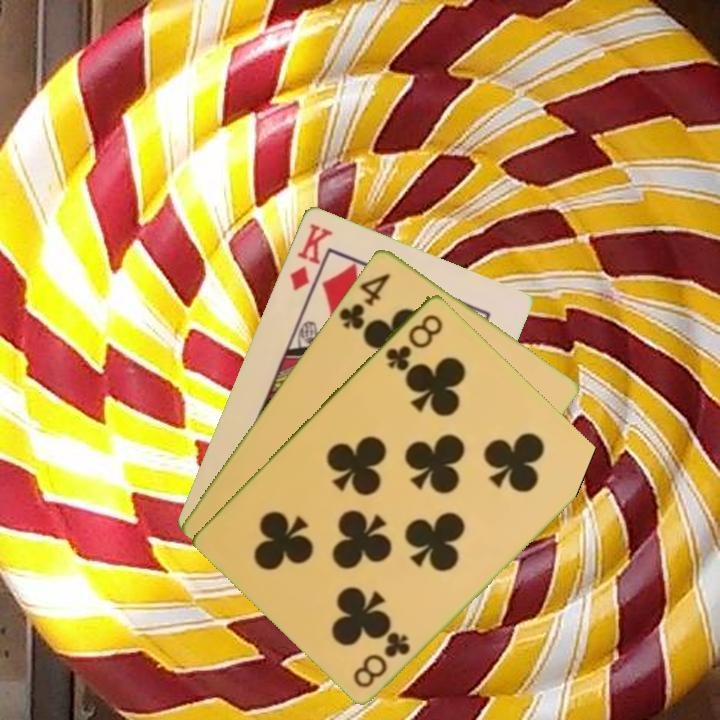4c: (335, 268, 393, 332)
8c: (381, 309, 446, 373), (349, 628, 414, 691)
Kd: (285, 219, 336, 293)
